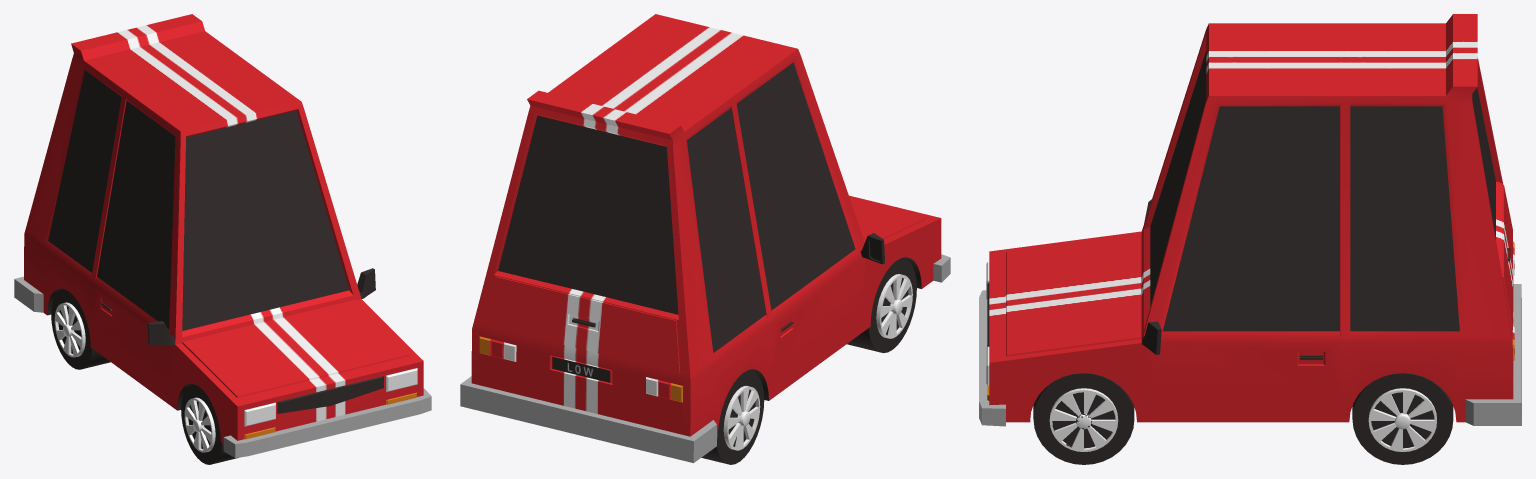
Rendered from car low poly.fbx.
3 views of the same model, side by side, from view 1: azimuth 30°, elevation 25°; view 2: azimuth 150°, elevation 25°; view 3: azimuth 270°, elevation 25° (orthographic). The views are drawn at different scales.
Visible parts, largest first — view 1: Cube; view 2: Cube; view 3: Cube.
Part boxes in pixels (left/top/right/bottom): Cube: left=14, top=14, right=431, bottom=464; Cube: left=460, top=14, right=950, bottom=464; Cube: left=979, top=14, right=1521, bottom=464.
Size of the model in its own units: 248 by 146 by 182.
Materials: 1 (1 with a texture image).
